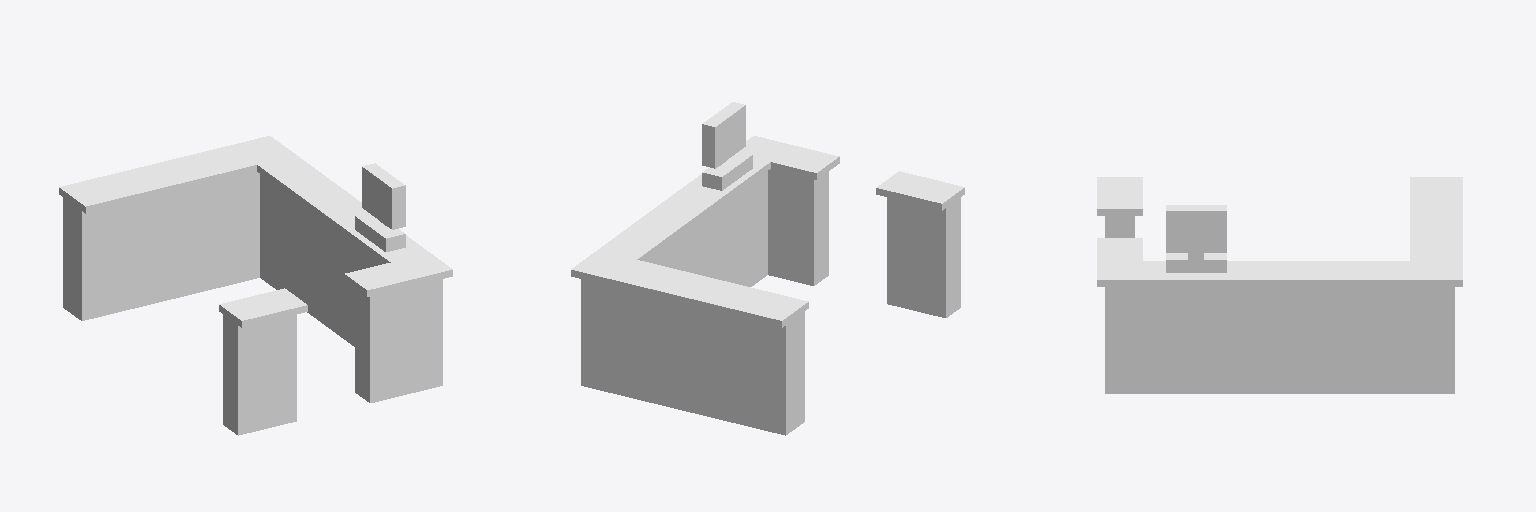
File: toy-store-13-desk.obj
3 views of the same model, side by side, from view 1: azimuth 30°, elevation 25°; view 2: azimuth 150°, elevation 25°; view 3: azimuth 270°, elevation 25° (orthographic).
Visible parts, largest first — view 1: desk; view 2: desk; view 3: desk.
Part boxes in pixels (left/top/right/bottom): desk: left=59, top=136, right=452, bottom=435; desk: left=571, top=102, right=964, bottom=435; desk: left=1097, top=177, right=1462, bottom=393.
Size of the model in its own units: 3.2 by 2.6 by 4.8.